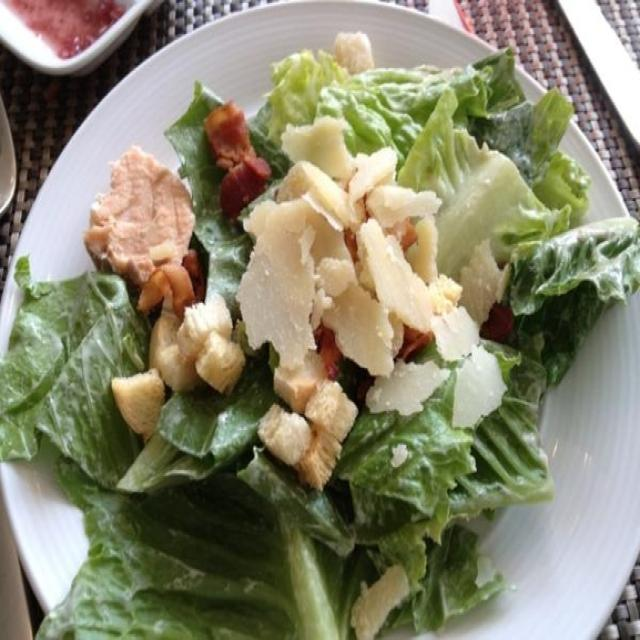蔬菜料理: (5, 13, 629, 631)
